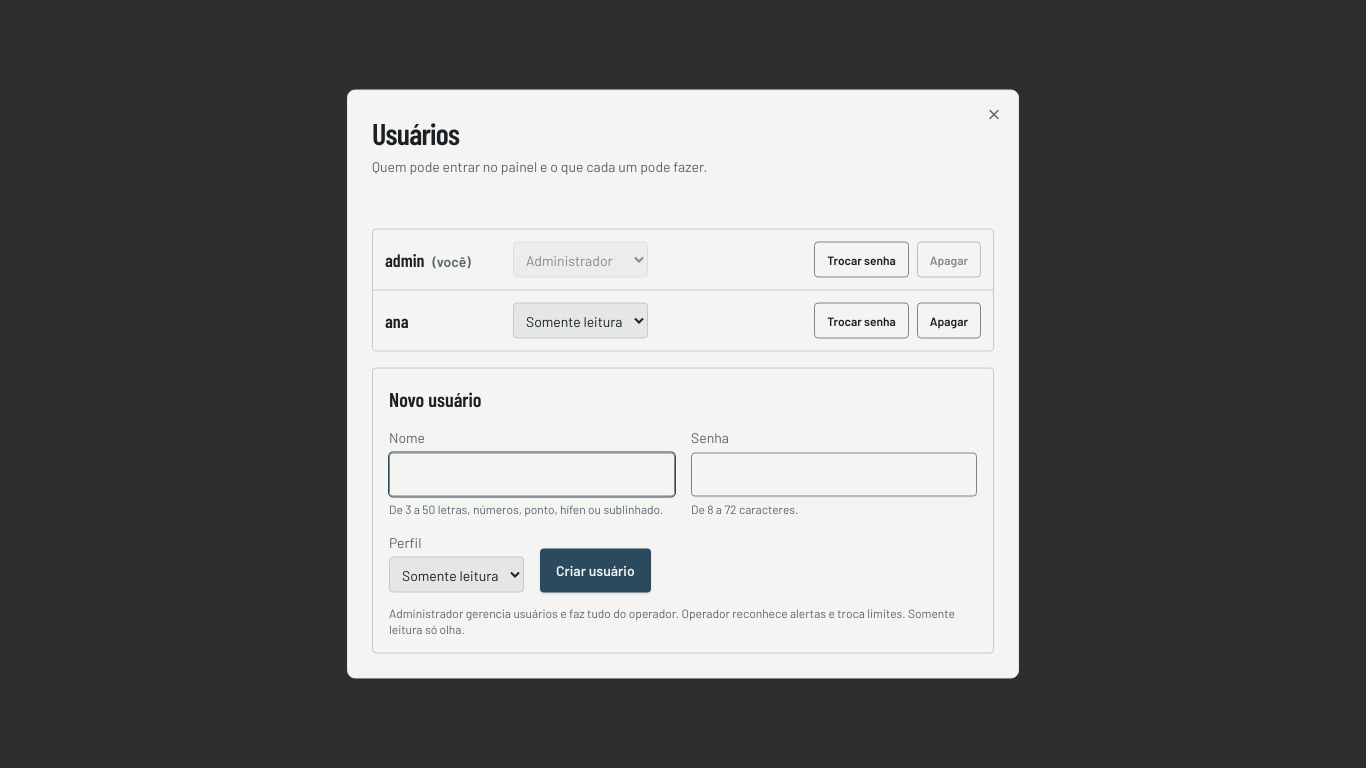
Test: GerenciarUsuarios › cancelar a confirmação não apaga nada
expect the list is shown: met, box x1=372 y1=228 x2=994 y2=352
Click the button with aria-label "Apagar ana".
click(949, 320)  # box x1=917 y1=302 x2=981 y2=338
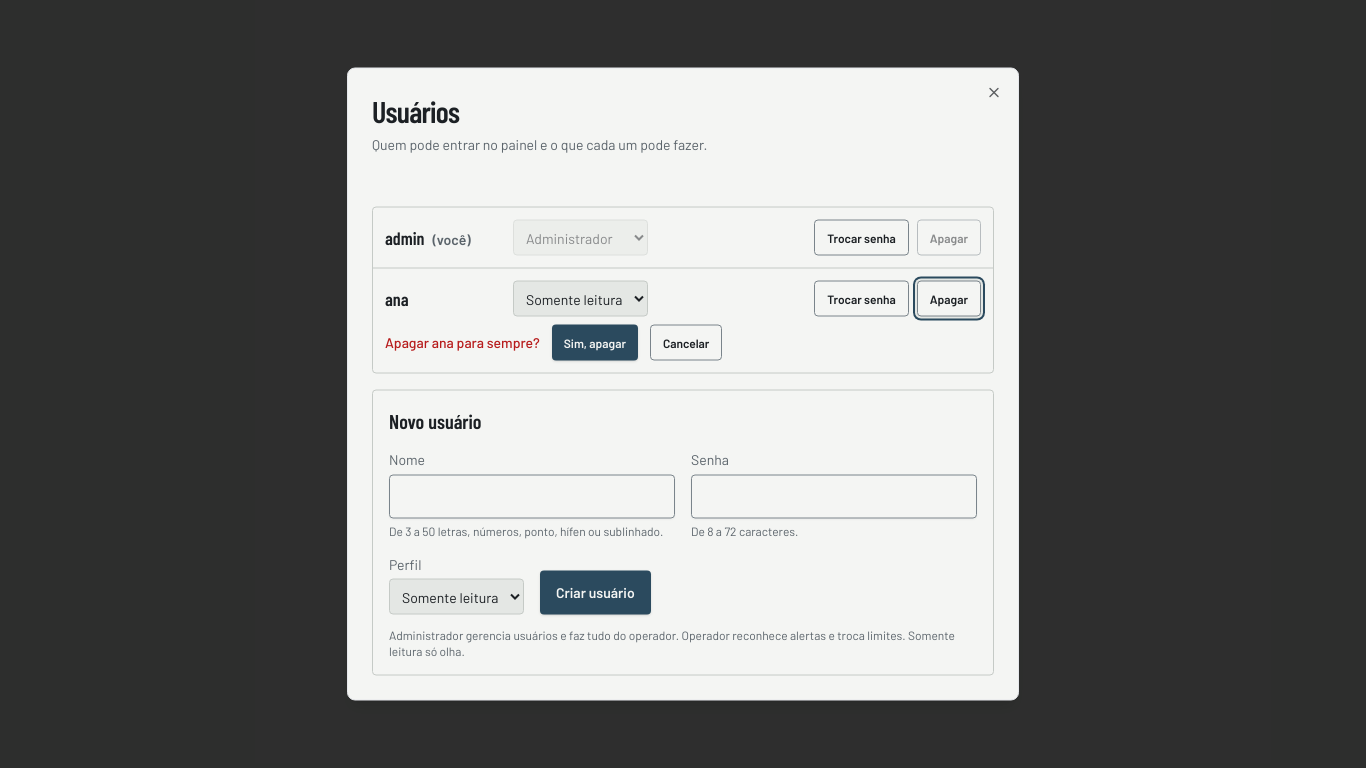
Click the button "Cancelar".
click(686, 342)  # box x1=650 y1=324 x2=722 y2=360
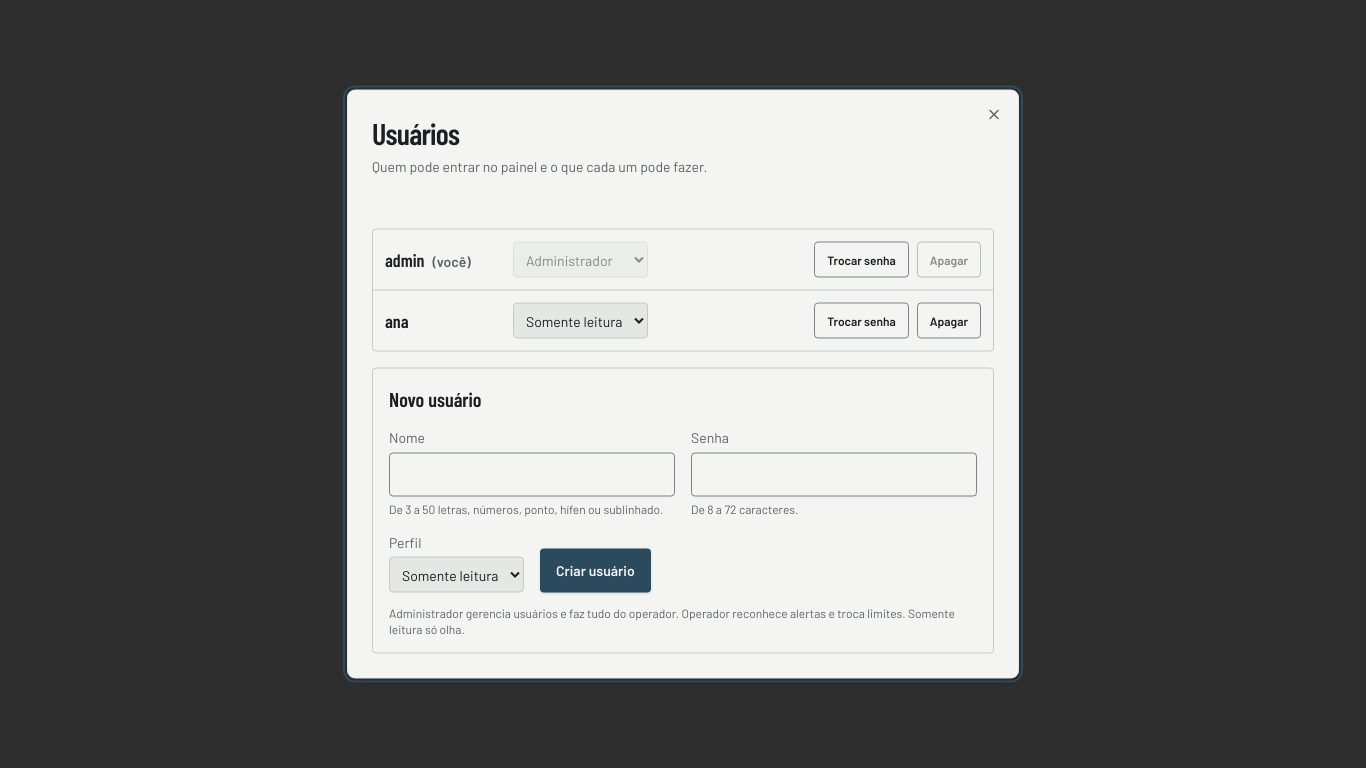
expect the text "Apagar ana para sempre?" is gone: met
